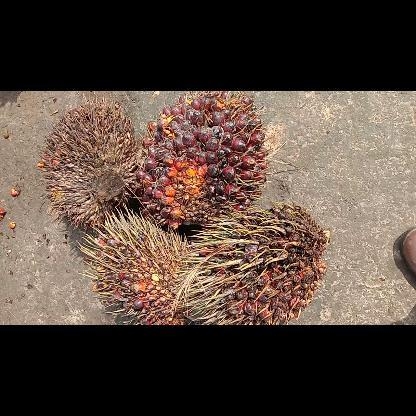Kurang masak: (192, 202, 328, 324)
TBS abnormal: (38, 94, 142, 232), (80, 204, 194, 322)
Terlalu masak: (139, 91, 271, 229)
